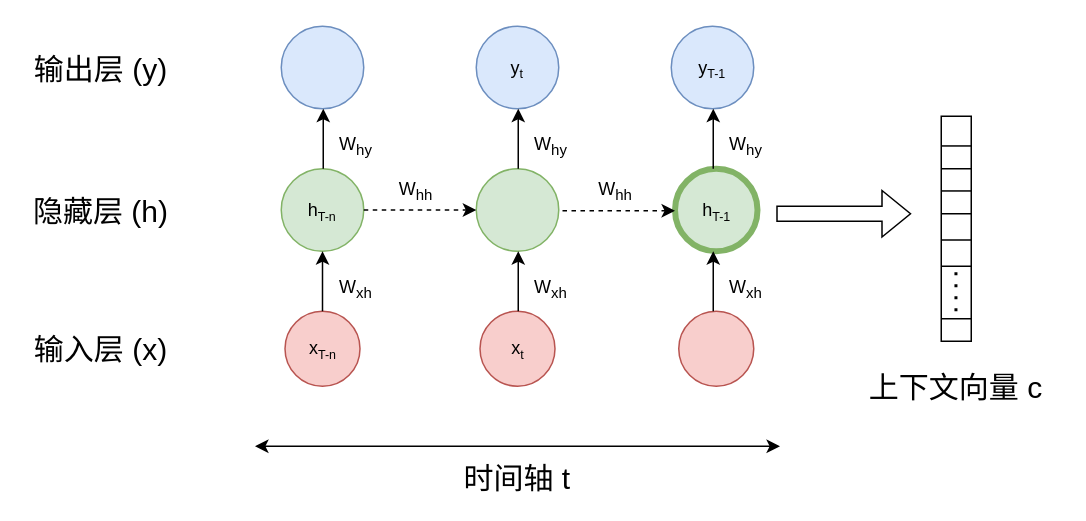
The diagram is 1086 pixels wide and 521 high, and some of its shapes have lost their labels. The centre of each missing label's shape, as x and y in pixels:
"h t" goes at (x=517, y=209).
"x T-1" goes at (x=715, y=348).
"y T-n" goes at (x=322, y=67).
